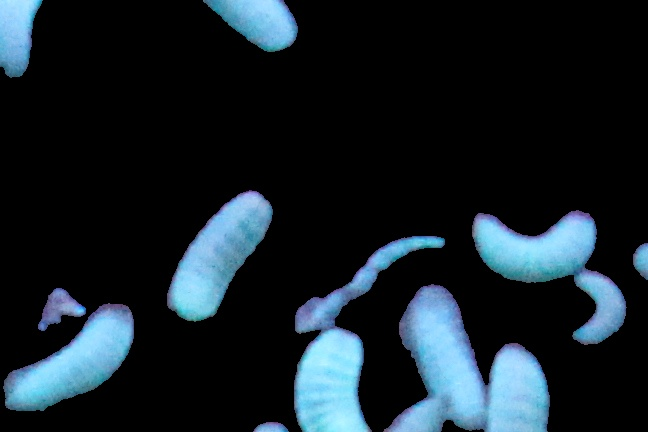larvae: (167, 190, 274, 330), (398, 277, 491, 432), (7, 300, 133, 409), (469, 206, 601, 283), (294, 328, 371, 432), (198, 1, 305, 59), (490, 346, 551, 432), (1, 1, 53, 95), (571, 270, 628, 349)
